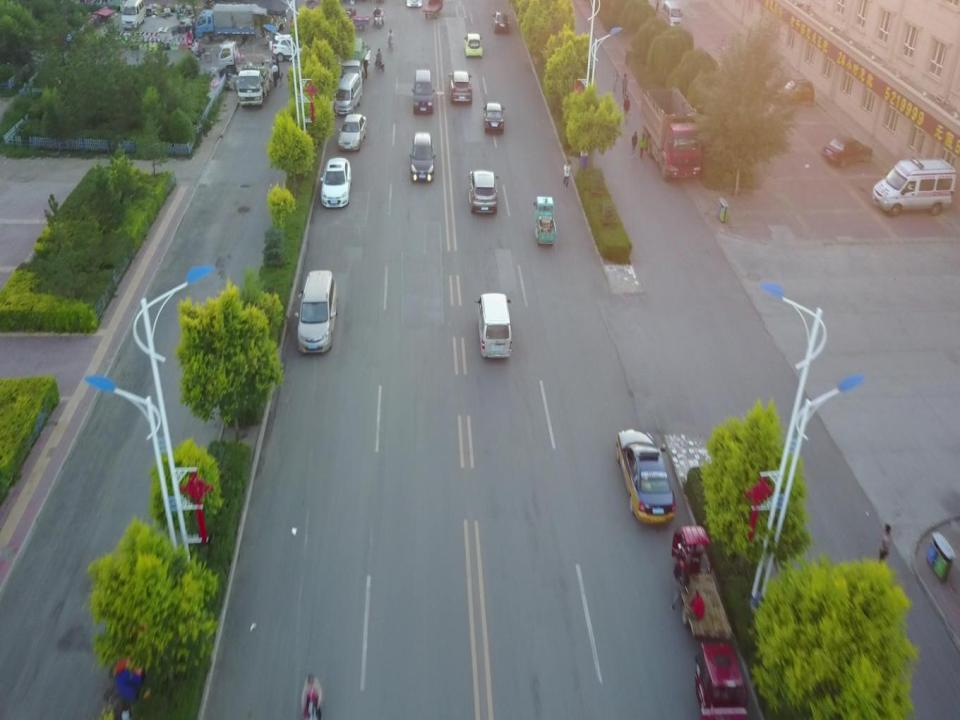car: (616, 426, 676, 526), (319, 155, 352, 208), (272, 31, 324, 60), (468, 166, 498, 214), (822, 136, 870, 164), (335, 111, 367, 153), (410, 130, 434, 181), (771, 78, 814, 106), (448, 69, 474, 105), (482, 100, 508, 134), (463, 32, 484, 58), (492, 9, 511, 35)
truck: (671, 525, 731, 639), (640, 86, 703, 180), (236, 67, 268, 108), (341, 34, 370, 79)
van: (872, 156, 956, 216), (294, 269, 338, 354), (474, 290, 514, 358), (334, 71, 363, 115), (410, 67, 435, 114), (662, 0, 683, 31)
